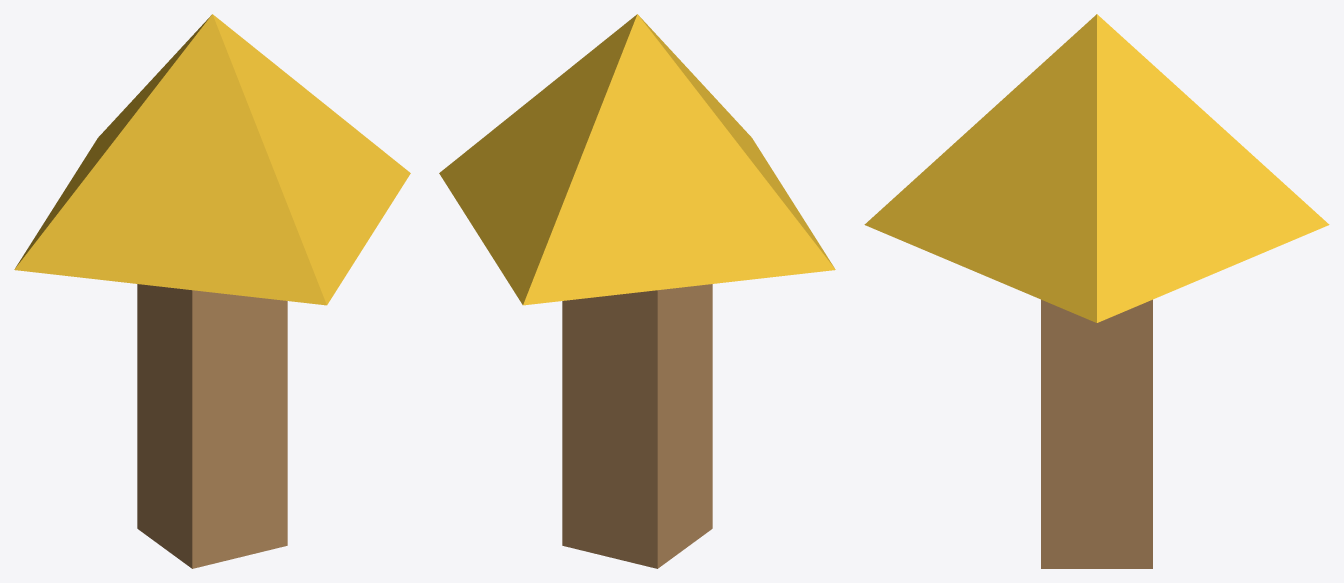
Rendered from upgrade_icon.obj.
3 renders of one model, left to right at view 1: azimuth 30°, elevation 25°; view 2: azimuth 150°, elevation 25°; view 3: azimuth 270°, elevation 25°, orthographic.
Parts seen in each view (by area): view 1: item; view 2: item; view 3: item.
Boxes of the visible parts, x1,y1,x2,y2 form: item: [14, 14, 410, 568]; item: [439, 14, 835, 568]; item: [864, 14, 1329, 568].
Bounding box in the file's own units: 0.5 × 0.63 × 0.5.
